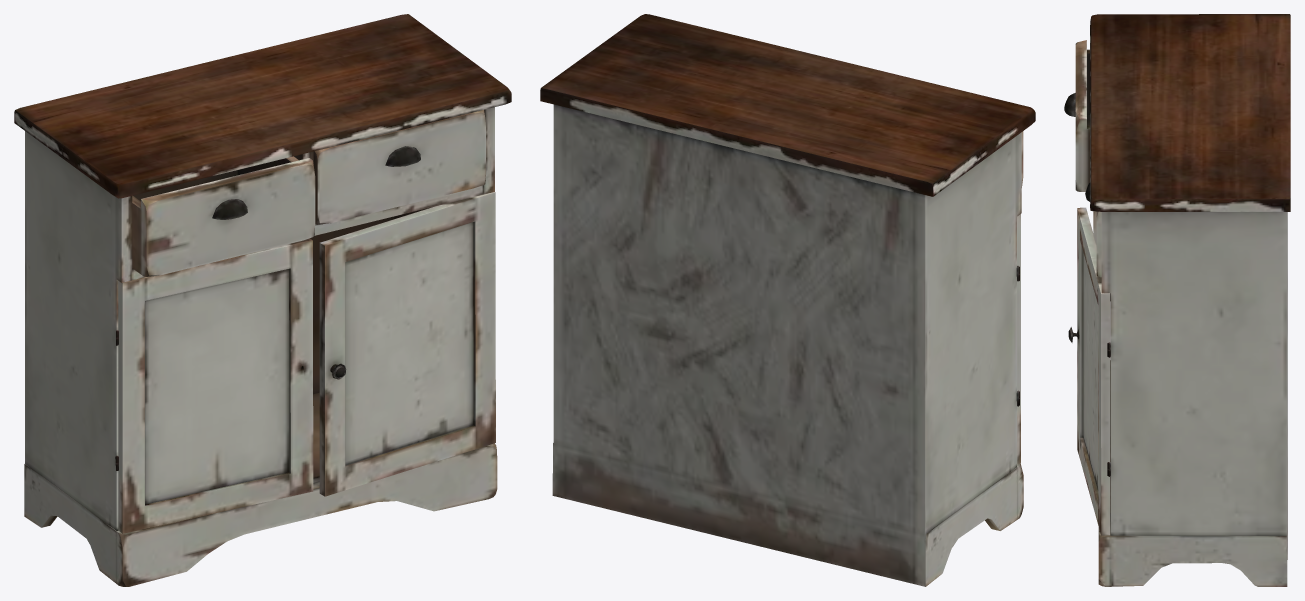
File: painted_wooden_cabinet.glb
The picture shows the model from 3 angles, left to right: view 1: azimuth 30°, elevation 25°; view 2: azimuth 150°, elevation 25°; view 3: azimuth 270°, elevation 25°; orthographic projection. The views are drawn at different scales.
Parts seen in each view (by area): view 1: painted_wooden_cabinet; view 2: painted_wooden_cabinet; view 3: painted_wooden_cabinet.
Part boxes in pixels (x1,y1,x2,y2): painted_wooden_cabinet: [14, 14, 511, 586]; painted_wooden_cabinet: [540, 14, 1035, 586]; painted_wooden_cabinet: [1064, 14, 1290, 586].
Size of the model in its own units: 1.19 by 1.18 by 0.616.
1 material, 1 textured.
